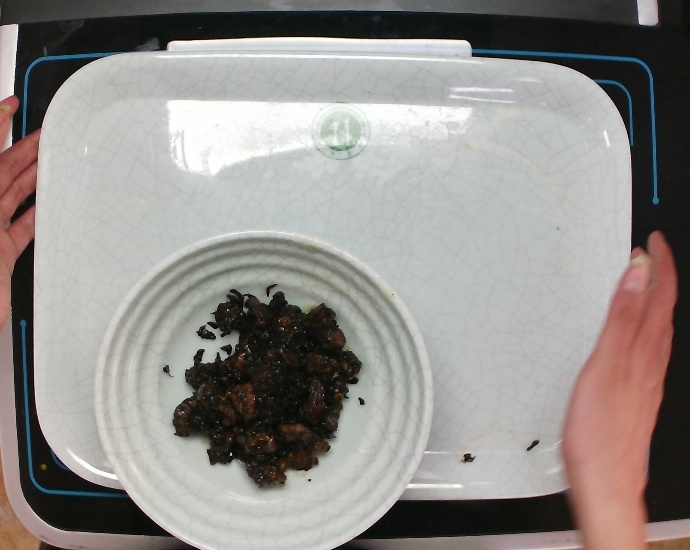JYsf-Da_Tang_Wan: (88, 227, 444, 550)
